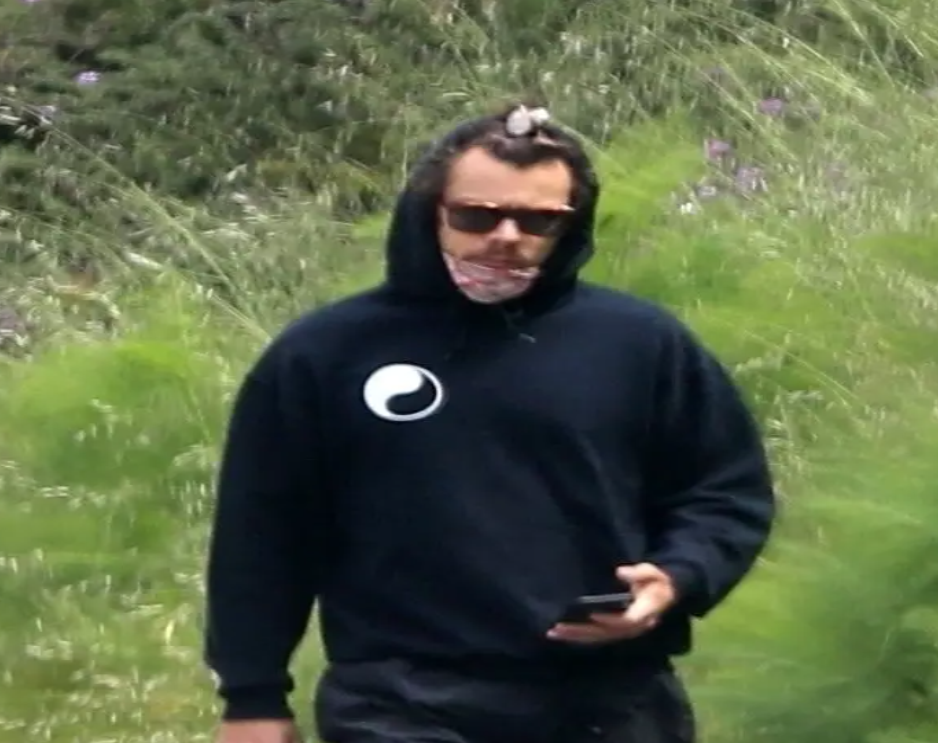mask_weared_incorrect: (409, 126, 598, 312)
